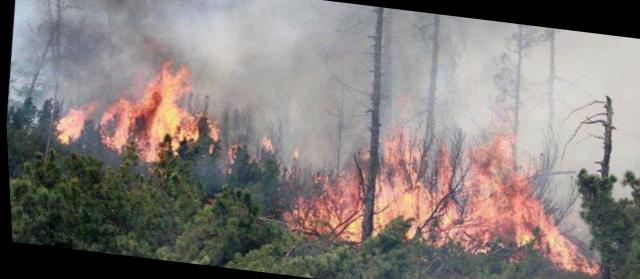fire: (270, 102, 611, 275), (41, 34, 226, 174)
